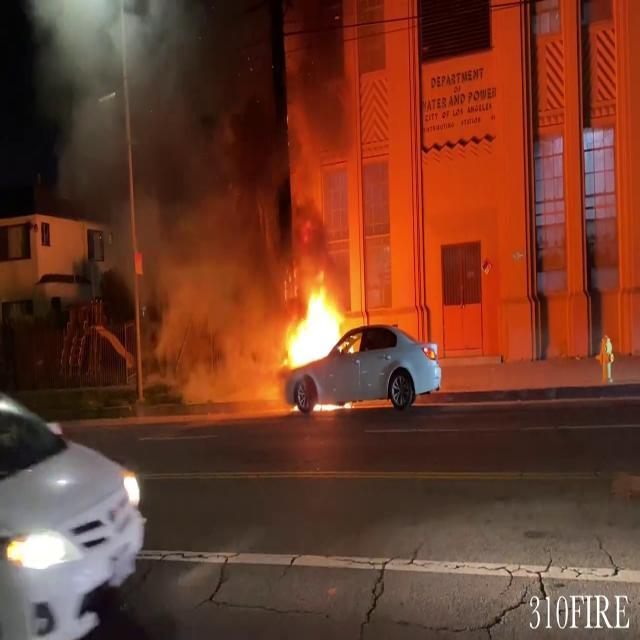Fire: (266, 270, 356, 374), (598, 321, 616, 384)
Smoke: (48, 0, 366, 347)
